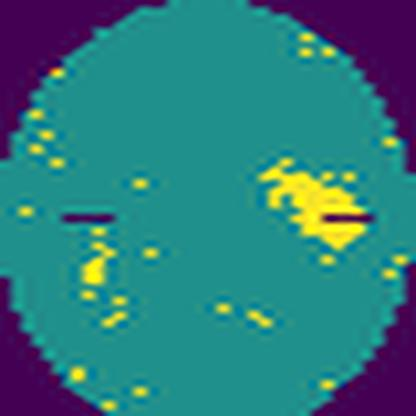Loc: (260, 152, 368, 252), (78, 241, 115, 283)
